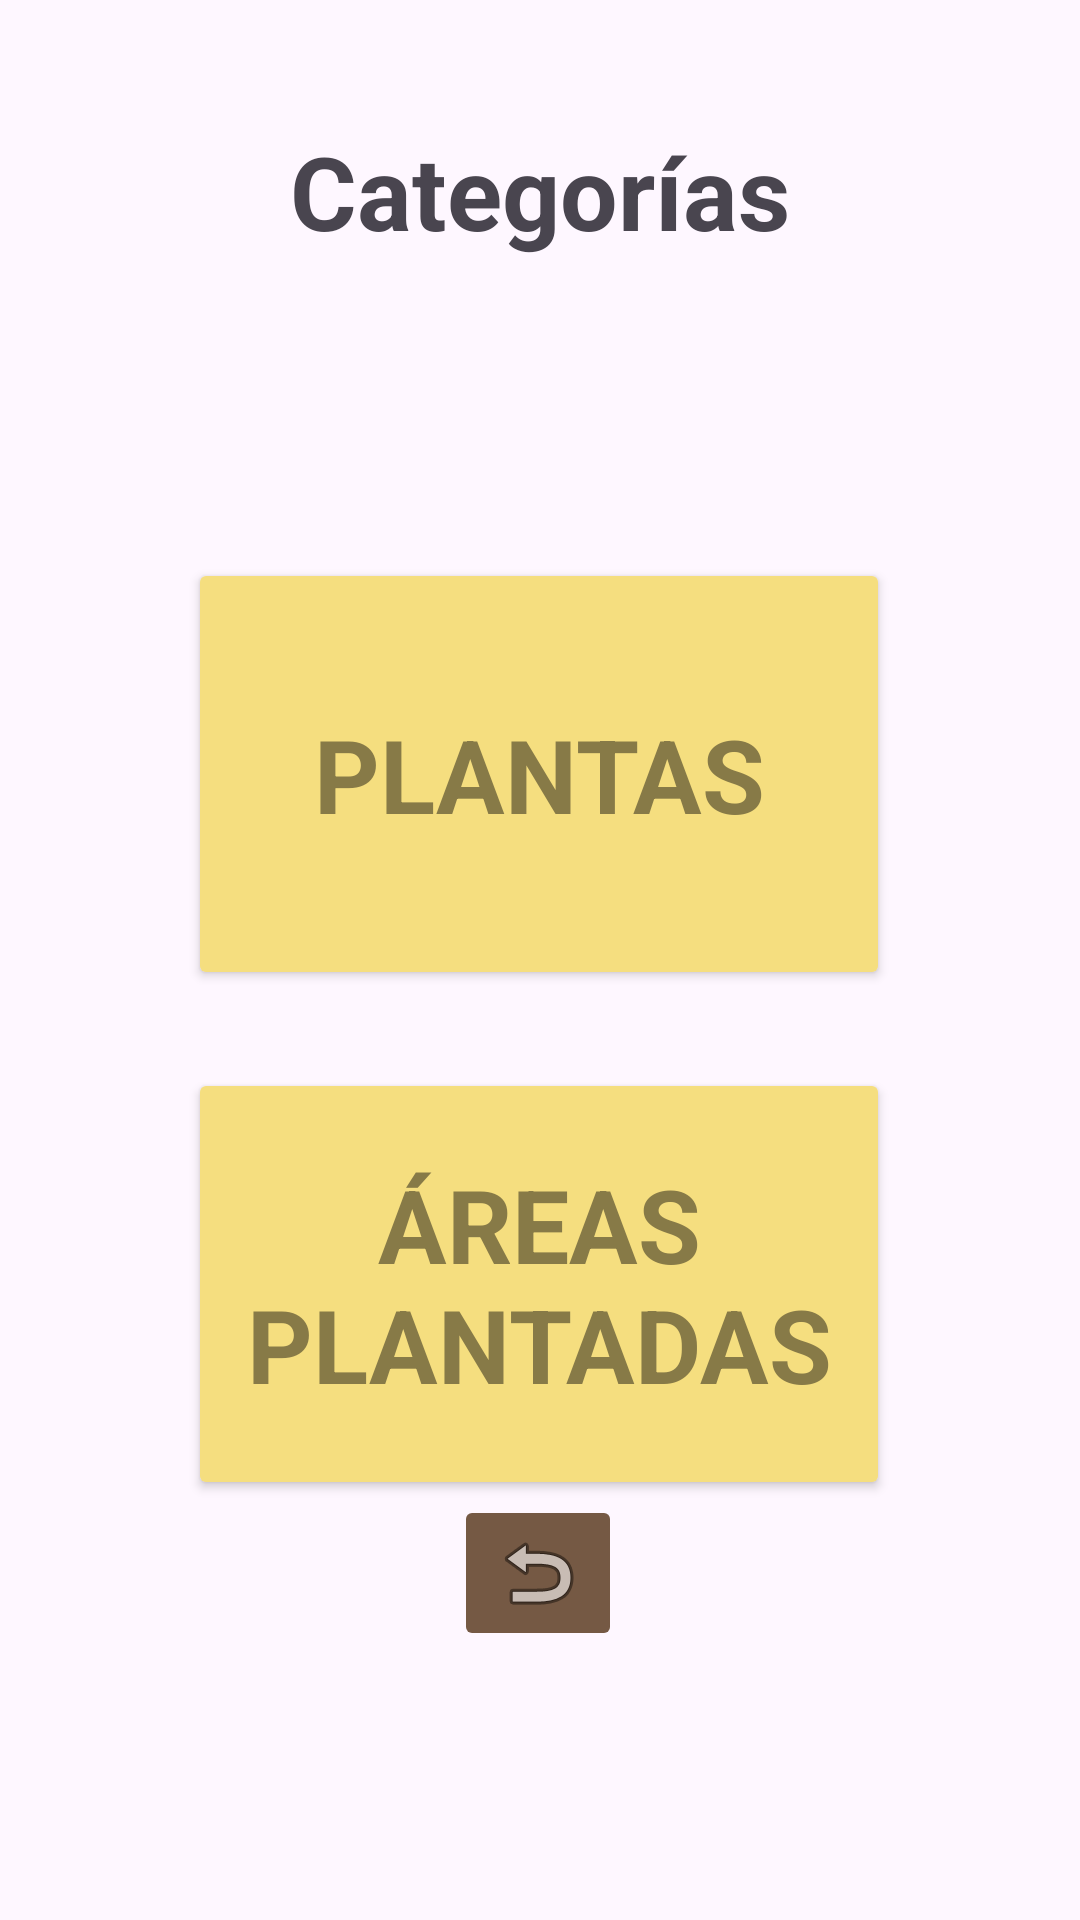

Where to tap for icons on this 1080 x 1920 app screen, as [x,y]:
Retornar: [538,1573]
